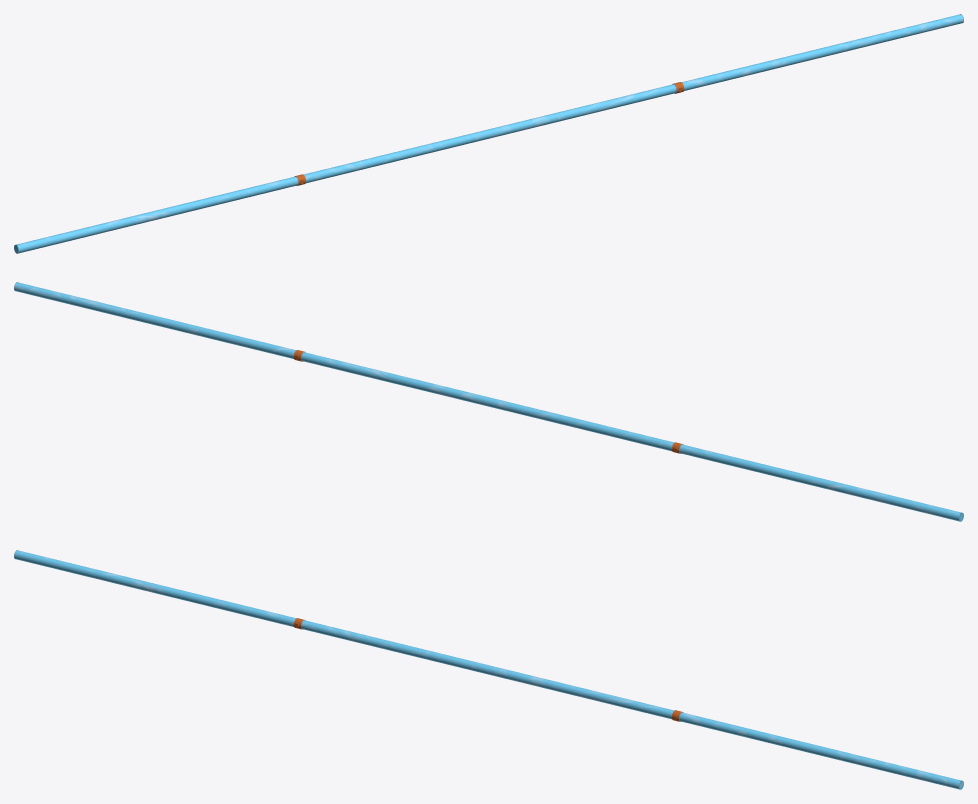
The model's file is Pipe.glb.
3 views of the same model, one above another, from view 1: azimuth 30°, elevation 25°; view 2: azimuth 150°, elevation 25°; view 3: azimuth 330°, elevation 25° (orthographic).
Visible parts, largest first — view 1: Pipe; view 2: Pipe; view 3: Pipe.
Part boxes in pixels (x1,y1,x2,y2): Pipe: [14, 14, 963, 253]; Pipe: [14, 282, 963, 521]; Pipe: [14, 550, 963, 789].
Bounding box in the file's own units: 14.81 × 0.1417 × 0.1522.
Materials: 2 (1 with a texture image).
